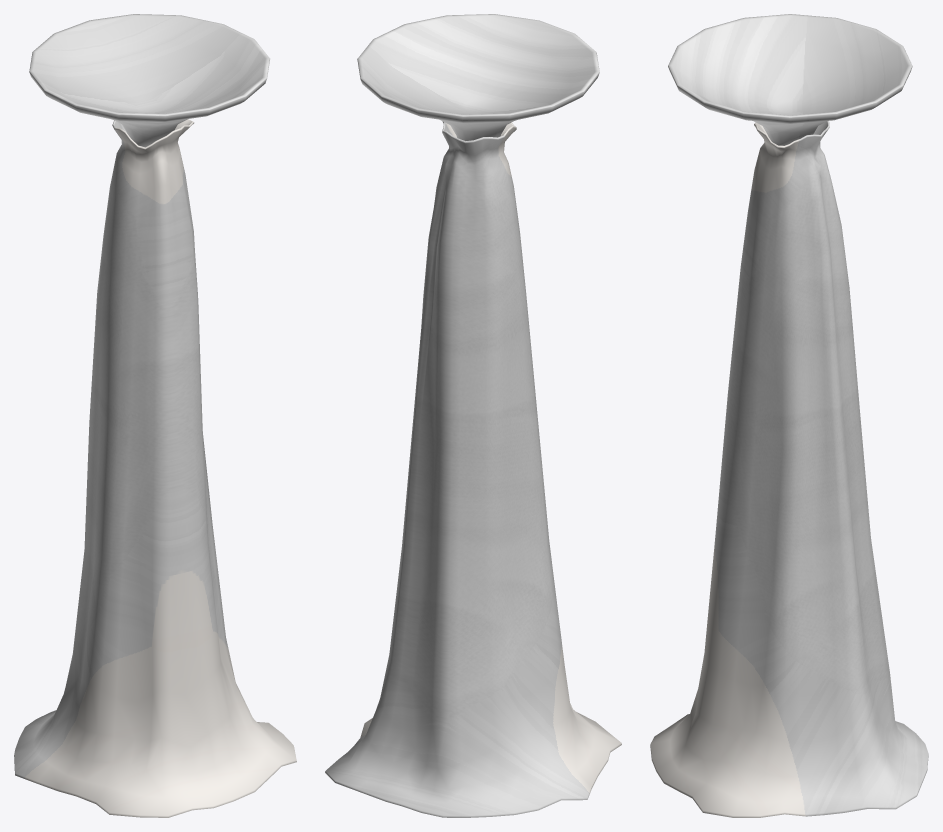
The model's file is DecorStandPot_FixedUV.fbx.
3 renders of one model, left to right at view 1: azimuth 30°, elevation 25°; view 2: azimuth 150°, elevation 25°; view 3: azimuth 270°, elevation 25°, orthographic.
Parts seen in each view (by area): view 1: DecorStandPot01_2; view 2: DecorStandPot01_2; view 3: DecorStandPot01_2.
Boxes of the visible parts, box(x1,y1,x2,y2) form: DecorStandPot01_2: box(14, 14, 296, 817); DecorStandPot01_2: box(325, 14, 621, 817); DecorStandPot01_2: box(650, 14, 928, 817).
Bounding box in the file's own units: 37.05 × 102 × 36.97.
